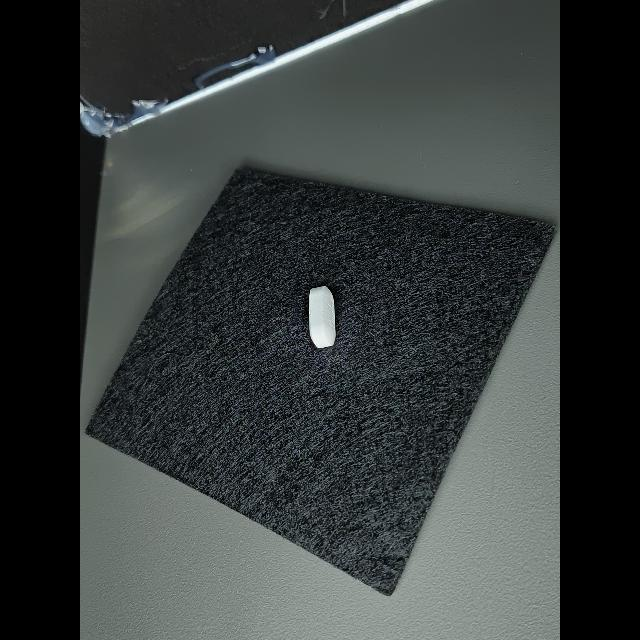Intact Pill: (309, 286, 336, 348)
